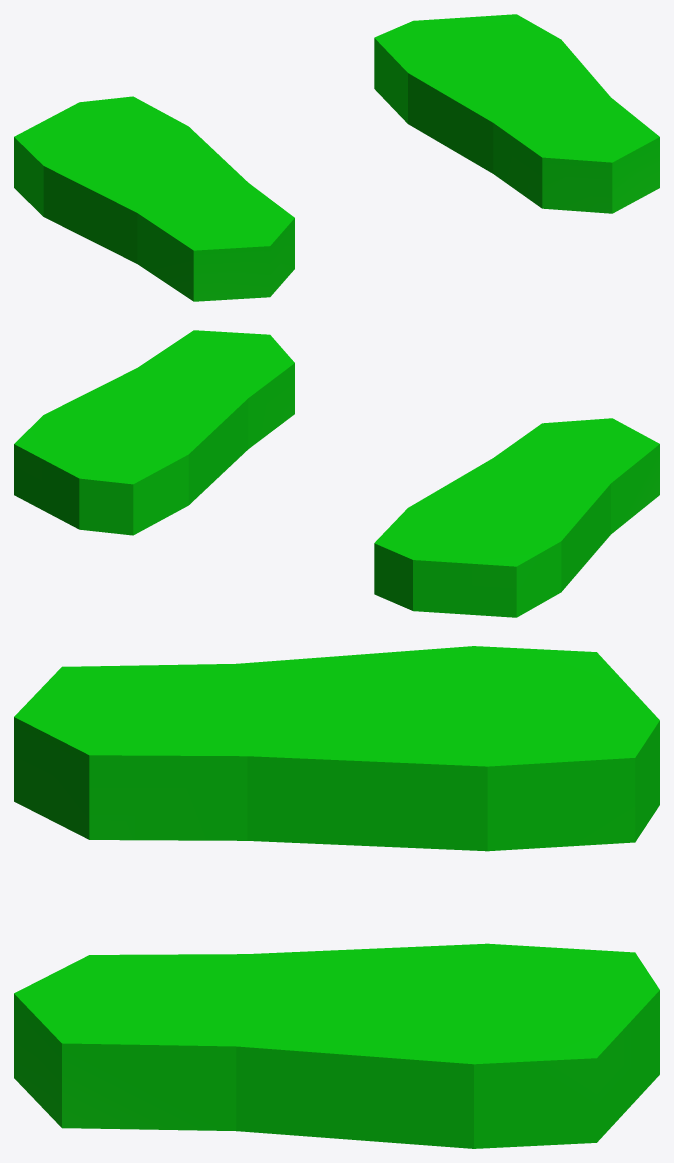
The model's file is interface.gltf.
3 renders of one model, top to bottom at view 1: azimuth 30°, elevation 25°; view 2: azimuth 150°, elevation 25°; view 3: azimuth 270°, elevation 25°, orthographic. The views are drawn at different scales.
Visible parts, largest first — view 1: Interface; view 2: Interface; view 3: Interface.
Part boxes in pixels (left/top/right/bottom): Interface: left=14, top=14, right=659, bottom=301; Interface: left=14, top=330, right=659, bottom=617; Interface: left=14, top=646, right=659, bottom=1148.
Bounding box in the file's own units: 0.5296 × 0.05 × 0.3457.
